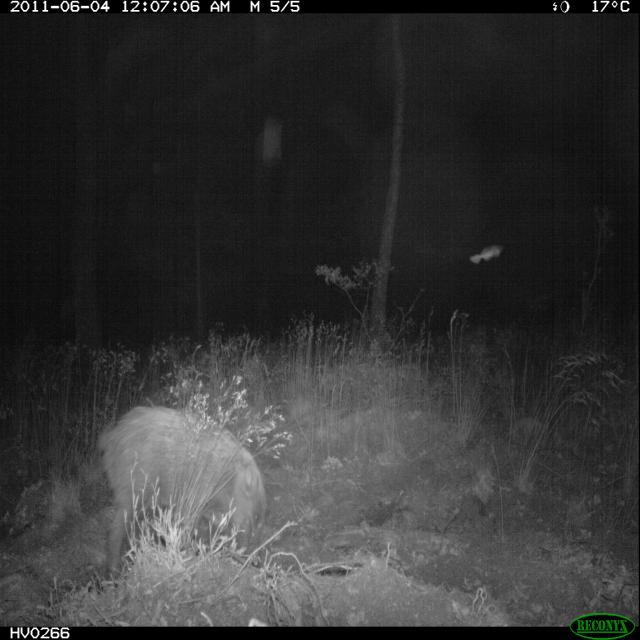boar: (24, 388, 304, 597)
